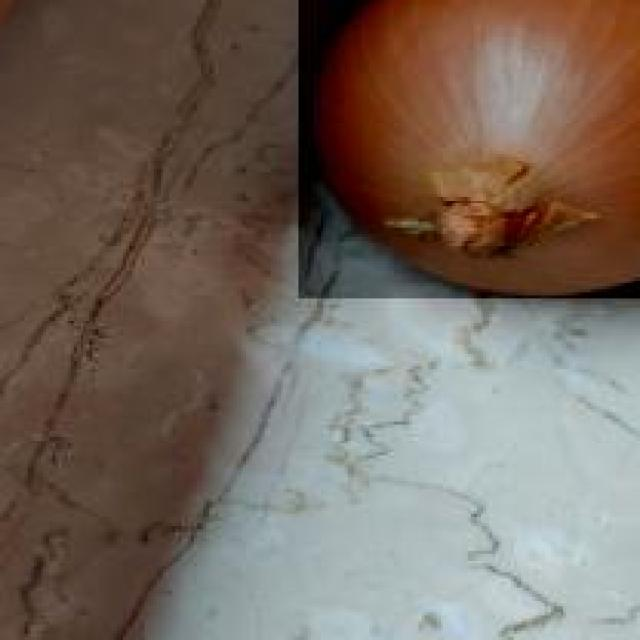onion: (295, 0, 639, 298)
